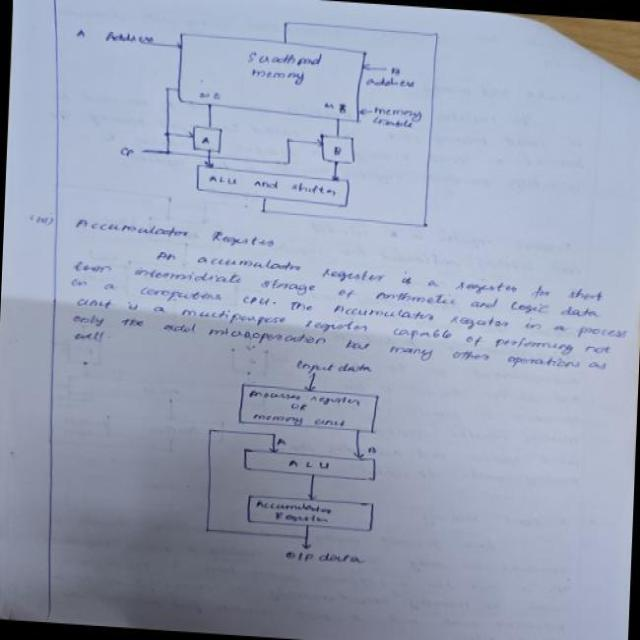Figure Detection - v3 Dataset Version2: (49, 0, 480, 237), (186, 345, 435, 580)
